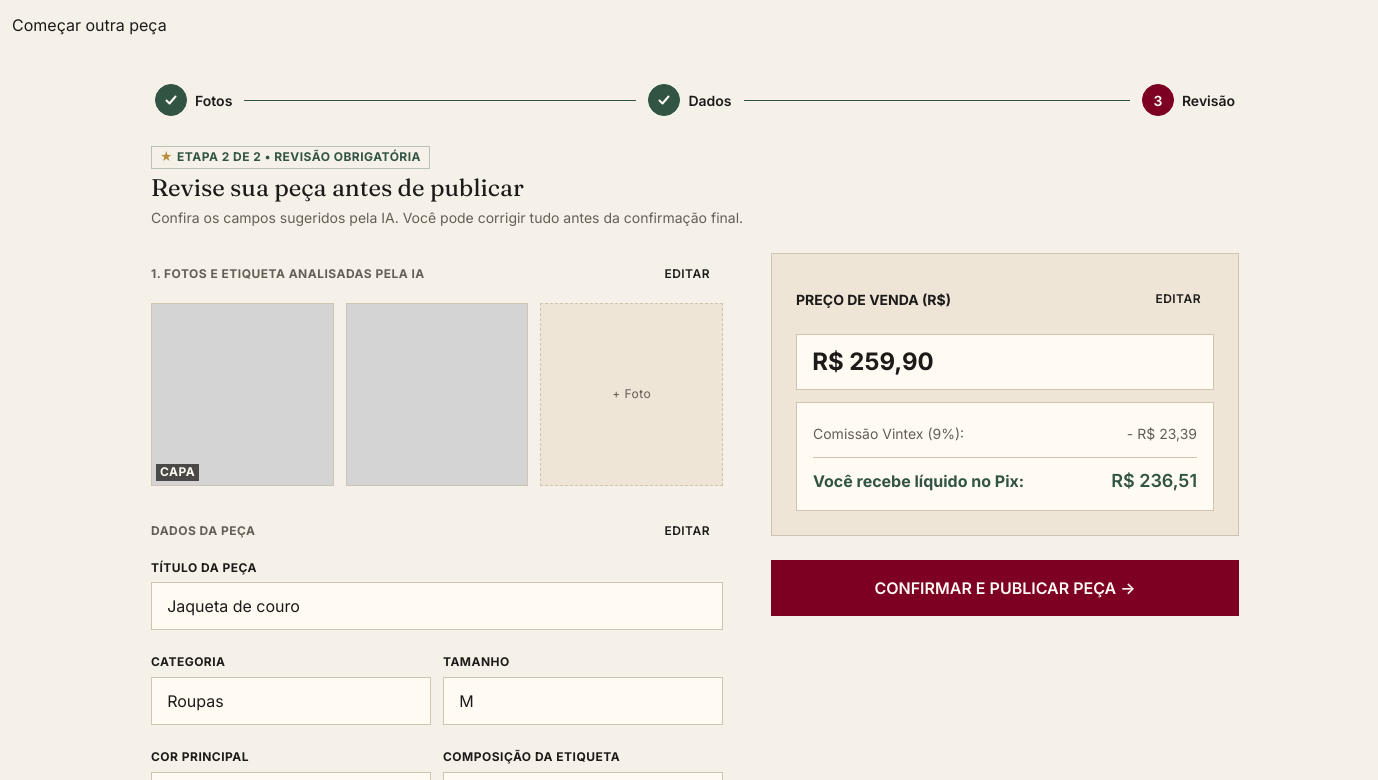
Test: Review › outro erro ao publicar mostra Toast de erro e mantém a revisão com os dados
The width and height of the screenshot is (1378, 780).
What coordinates should you click on to do the following:
click the button "Confirmar e publicar peça →"
I would click on:
 (1005, 588)
Its box is [771,560,1239,616].
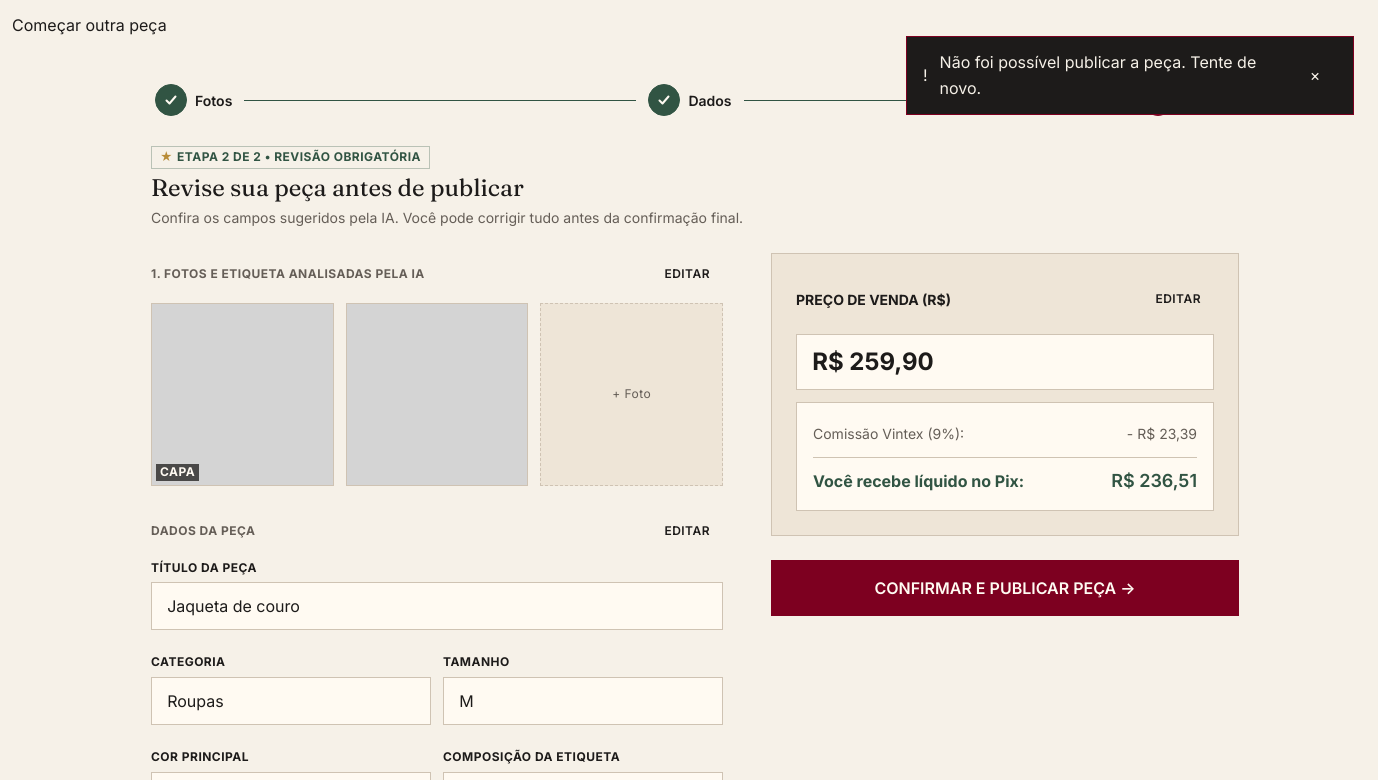
Expected: the heading "Revise sua peça antes de publicar" is shown, [151,173,524,202]
Expected: the message shows "Não foi possível publicar a peça. Tente de novo.", [940,52,1256,98]
